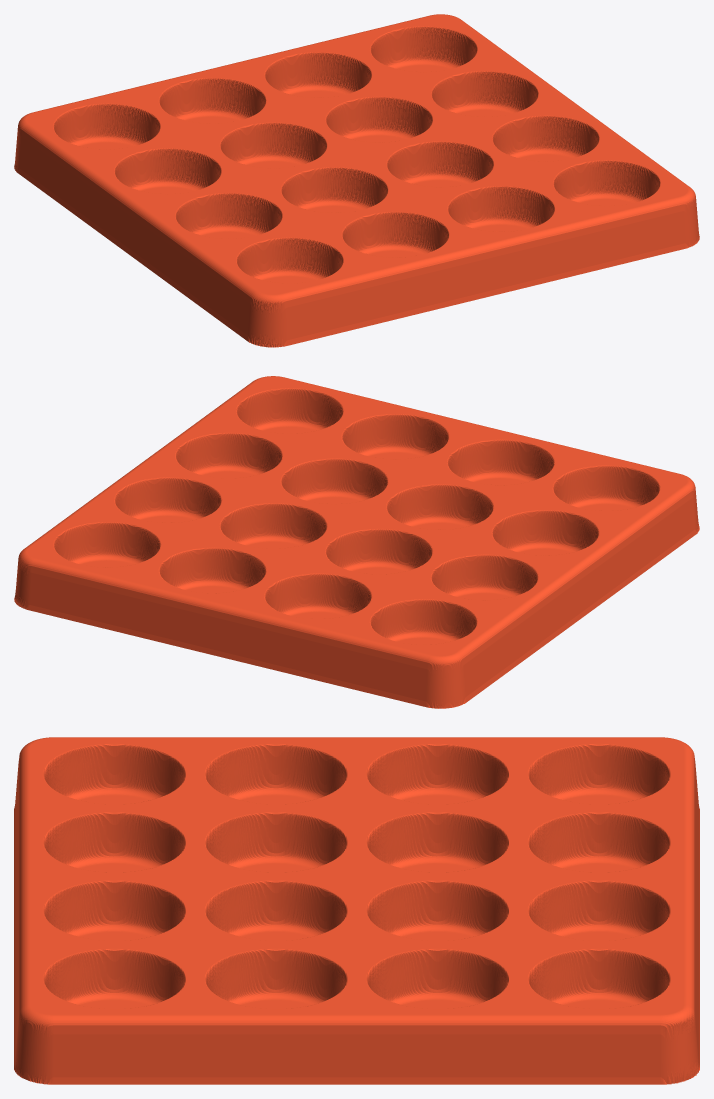
Rendered from mold.glb.
The picture shows the model from 3 angles, top to bottom: view 1: azimuth 30°, elevation 25°; view 2: azimuth 150°, elevation 25°; view 3: azimuth 270°, elevation 25°; orthographic projection. The views are drawn at different scales.
Parts seen in each view (by area): view 1: geometry_0; view 2: geometry_0; view 3: geometry_0.
Part boxes in pixels (box(x1,y1,x2,y2)): geometry_0: box(14, 14, 699, 347); geometry_0: box(14, 376, 699, 708); geometry_0: box(14, 737, 699, 1084).
Bounding box in the file's own units: 0.1569 × 0.0159 × 0.1569.
